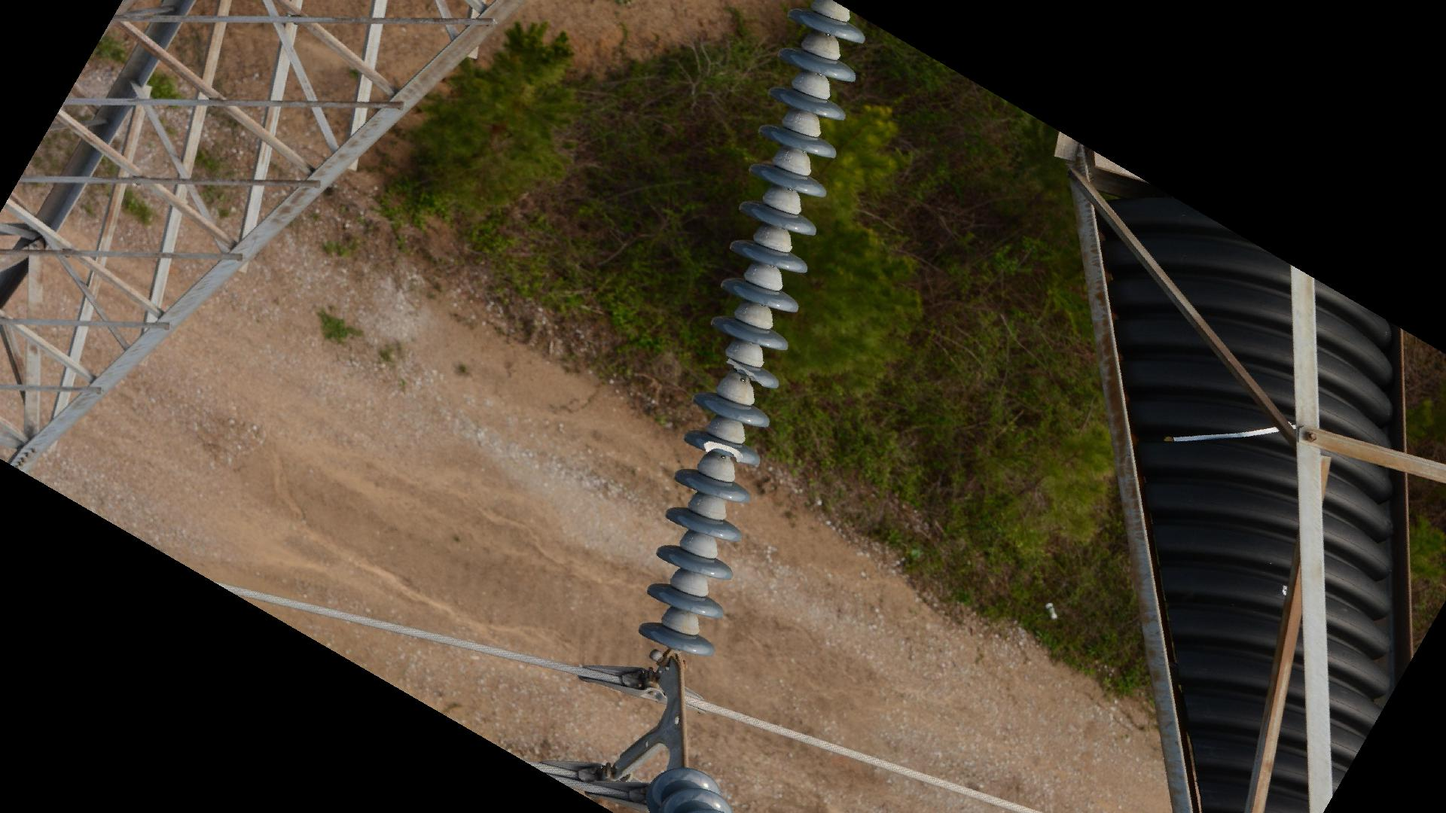insulator: (634, 1, 871, 665), (642, 763, 741, 813)
insulator_breakage: (697, 437, 752, 467)
